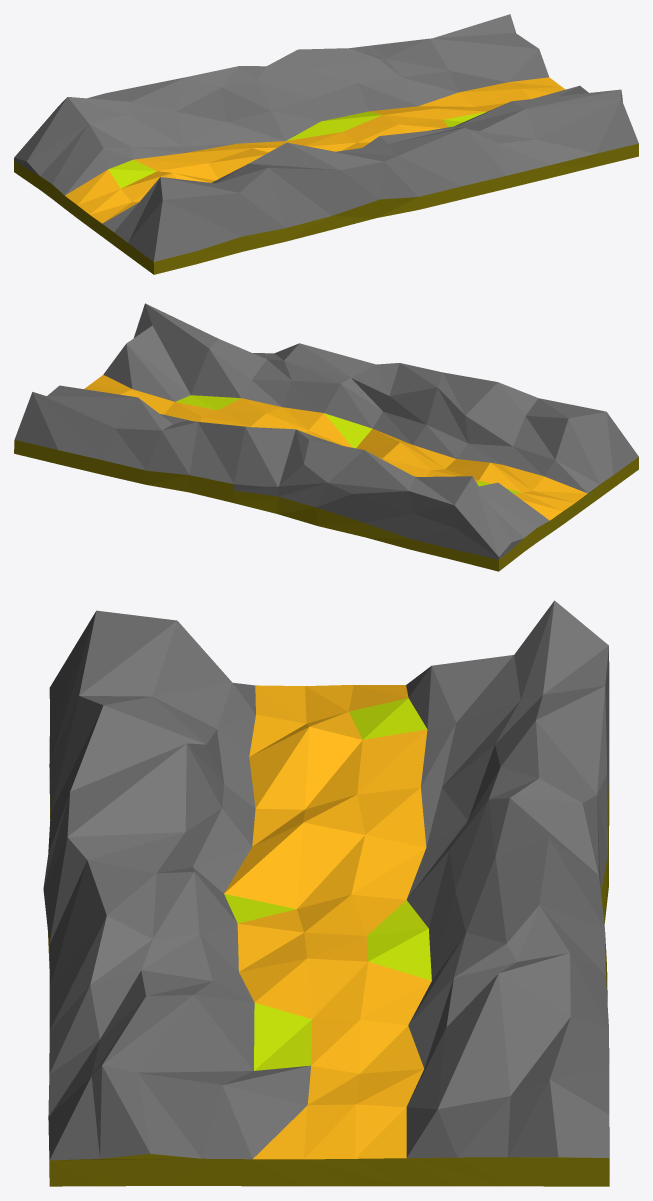
The model's file is PlaneAutumn2.fbx.
The picture shows the model from 3 angles, top to bottom: view 1: azimuth 30°, elevation 25°; view 2: azimuth 150°, elevation 25°; view 3: azimuth 270°, elevation 25°; orthographic projection. The views are drawn at different scales.
Parts seen in each view (by area): view 1: PlaneAutumn2.Cliffs, PlaneAutumn2.Road, PlaneAutumn2.Floor, PlaneAutumn2.RoadEdge; view 2: PlaneAutumn2.Cliffs, PlaneAutumn2.Road, PlaneAutumn2.Floor, PlaneAutumn2.RoadEdge; view 3: PlaneAutumn2.Cliffs, PlaneAutumn2.Road, PlaneAutumn2.Floor, PlaneAutumn2.RoadEdge.
Part boxes in pixels (bbox=[...]): PlaneAutumn2.Cliffs: bbox=[14, 14, 638, 261]; PlaneAutumn2.Road: bbox=[65, 77, 565, 223]; PlaneAutumn2.Floor: bbox=[14, 143, 638, 274]; PlaneAutumn2.RoadEdge: bbox=[108, 111, 486, 188]; PlaneAutumn2.Cliffs: bbox=[14, 303, 638, 559]; PlaneAutumn2.Road: bbox=[84, 375, 587, 520]; PlaneAutumn2.Floor: bbox=[14, 440, 638, 571]; PlaneAutumn2.RoadEdge: bbox=[175, 395, 521, 493]; PlaneAutumn2.Cliffs: bbox=[43, 600, 609, 1160]; PlaneAutumn2.Road: bbox=[224, 685, 431, 1159]; PlaneAutumn2.Floor: bbox=[48, 695, 609, 1186]; PlaneAutumn2.RoadEdge: bbox=[224, 698, 431, 1070].
Size of the model in its own units: 40054 by 5990 by 20224.
